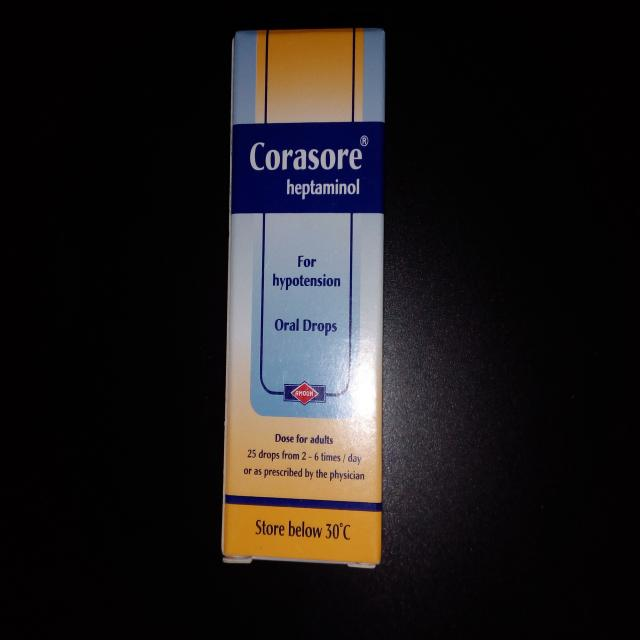Medicine: (219, 21, 390, 567)
